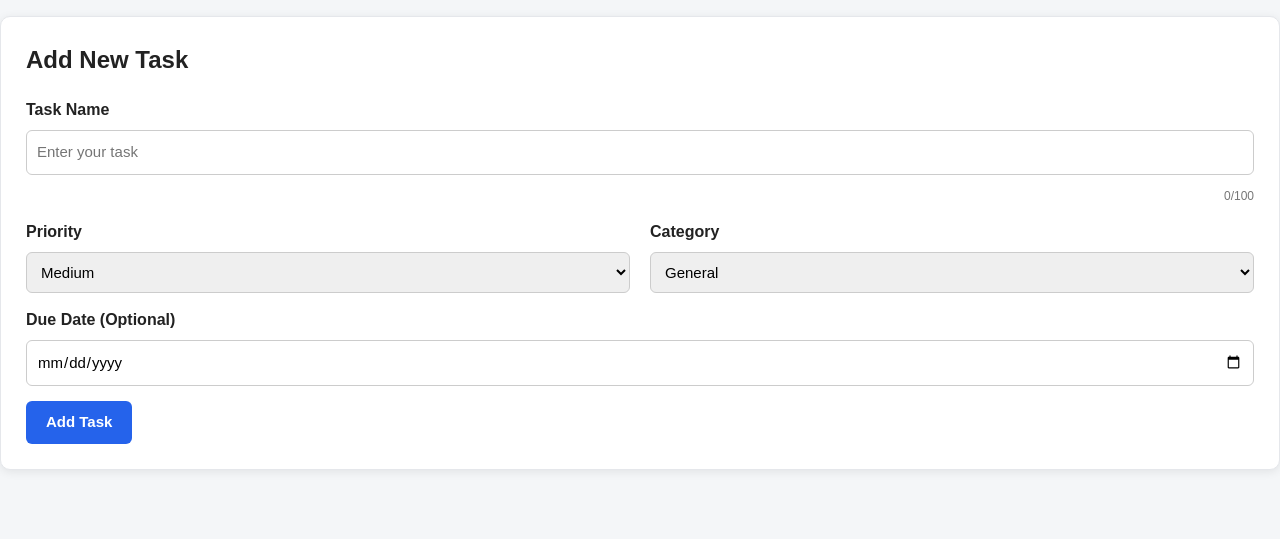
Test: TaskForm Component › should reject an empty task
Click the button with test id "add-task-button". click: (79, 422)
box: [26,401,132,444]
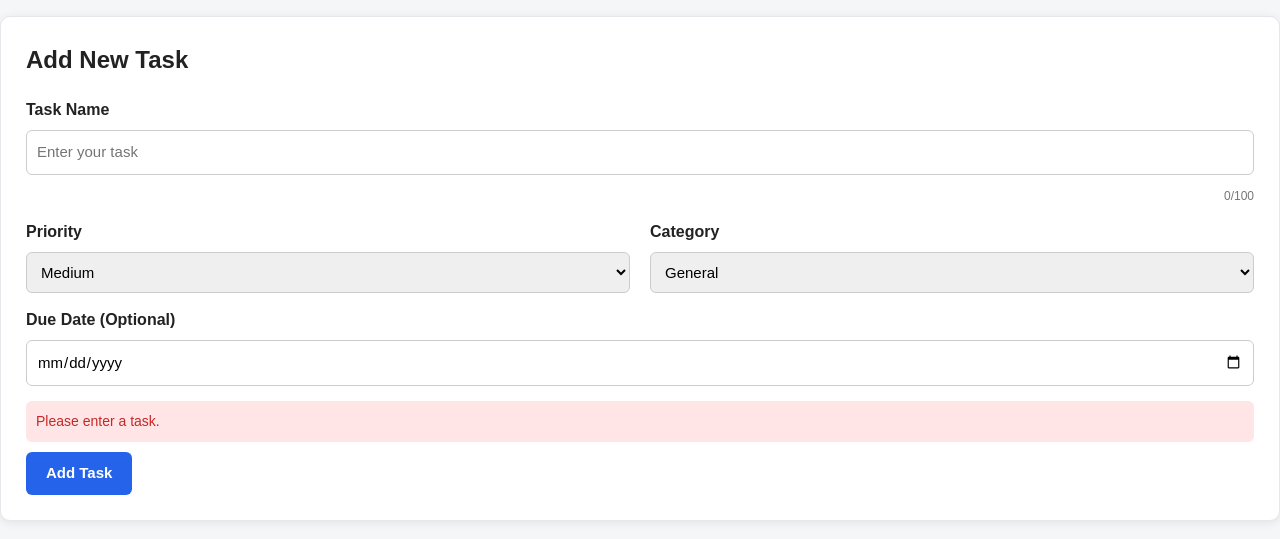
Now the text "Please enter a task." is shown, box [26,401,1254,442]
